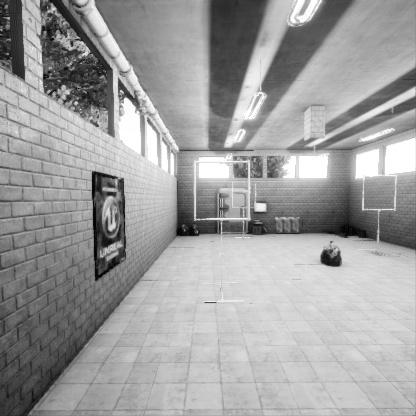gate: (194, 198, 253, 256), (365, 206, 402, 242), (231, 209, 257, 235)
